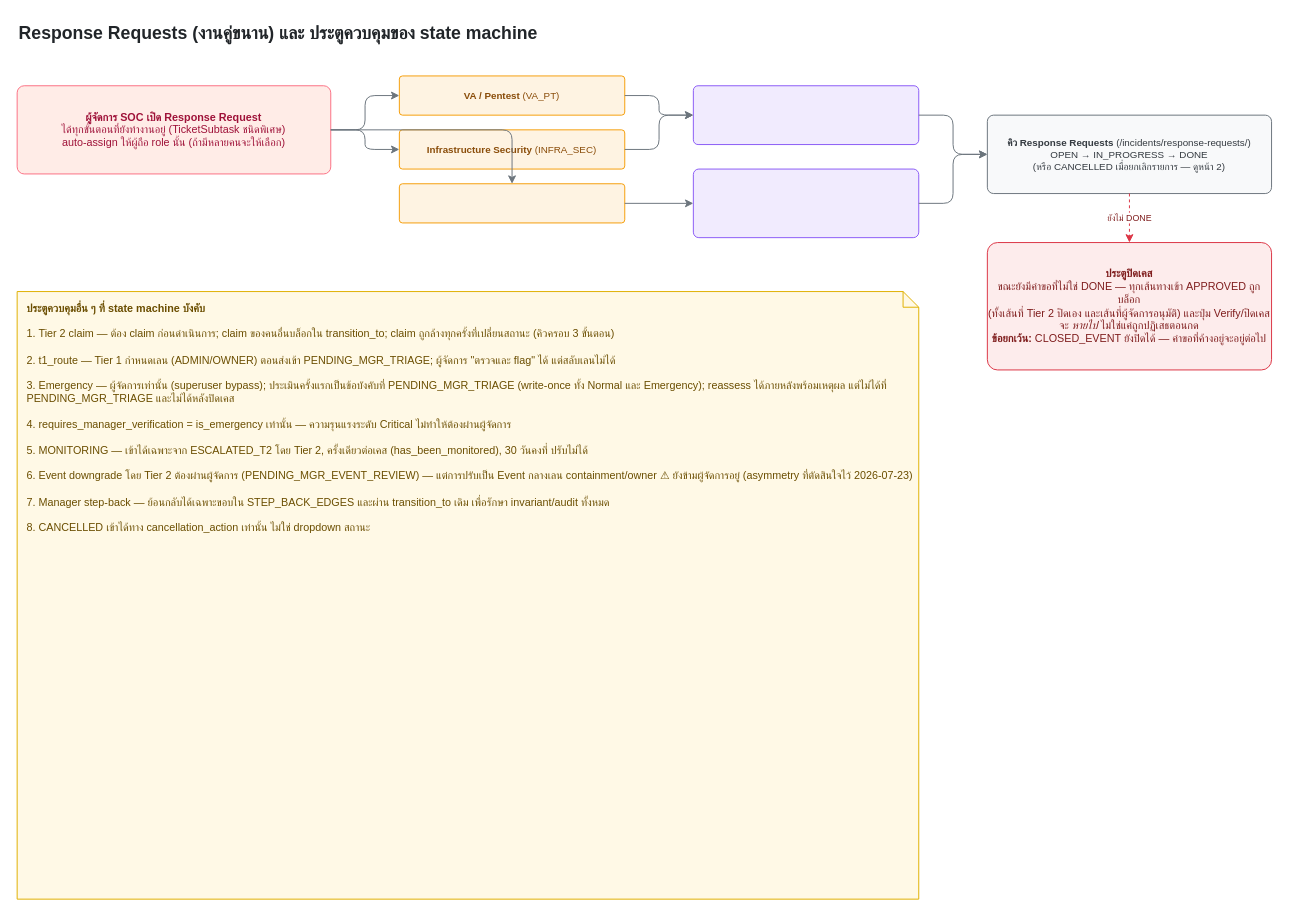
Some shapes in this 1289 by 916 pixel diagram are drawn without their labels. The shapes that lost their labels are listed below. From the top down, each one's centre as x and y in pixels, then its label:
point 805,115: Red Team Manager เห็นเฉพาะเคสที่มีคำขอของตน
point 511,203: Forensics / RCA (FORENSIC_RCA)
point 805,203: Forensic Analyst อ่านทุกเคสได้ (read-only, v1.3.1) เขียนได้เฉพาะผลงานในคำขอของตน
